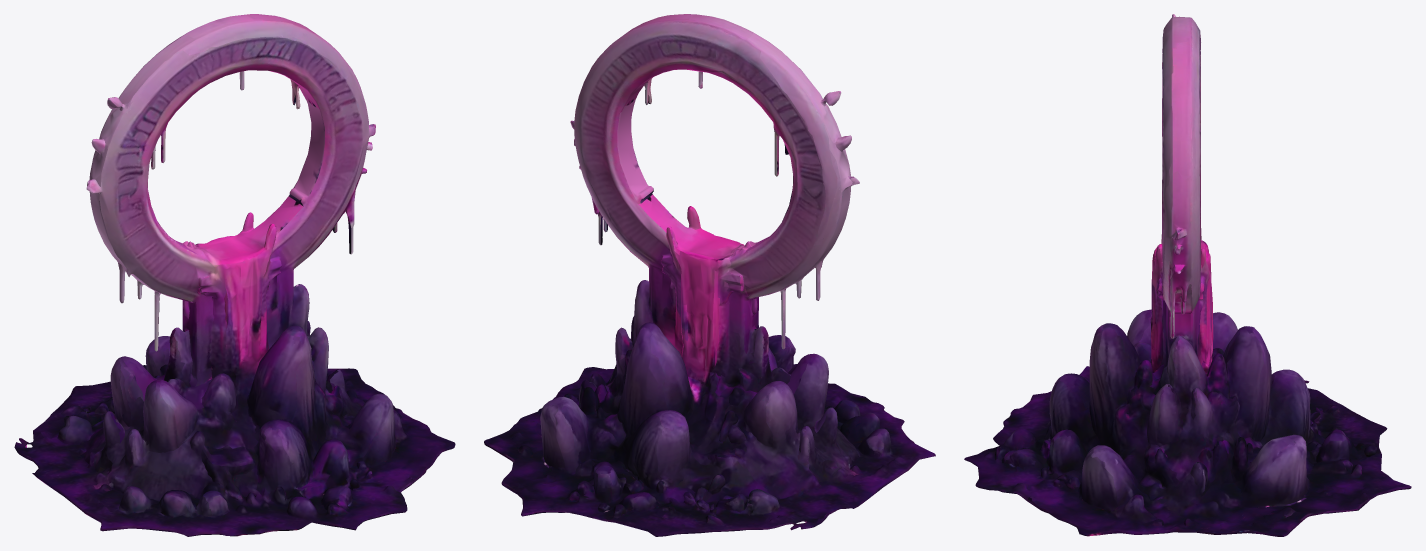
The model's file is crown-halo-generated-2026-05-17T17-51-57-002Z.medium.glb.
The picture shows the model from 3 angles, left to right: view 1: azimuth 30°, elevation 25°; view 2: azimuth 150°, elevation 25°; view 3: azimuth 270°, elevation 25°; orthographic projection. The views are drawn at different scales.
Parts seen in each view (by area): view 1: temp_mesh.ply; view 2: temp_mesh.ply; view 3: temp_mesh.ply.
Part boxes in pixels (x1=…): temp_mesh.ply: x1=14, y1=14, x2=455, y2=536; temp_mesh.ply: x1=484, y1=14, x2=935, y2=536; temp_mesh.ply: x1=964, y1=14, x2=1411, y2=536.
Size of the model in its own units: 1.69 by 1.96 by 1.88.
Materials: 1 (1 with a texture image).
